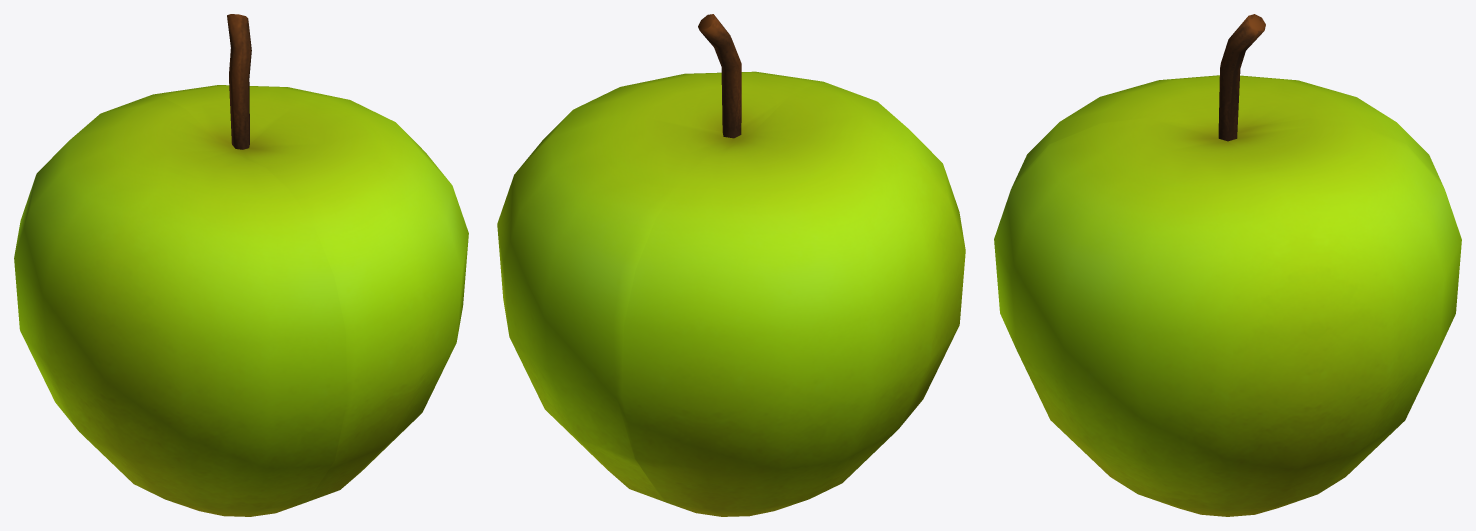
Rendered from Apple_01_Sliced.fbx.
The picture shows the model from 3 angles, left to right: view 1: azimuth 30°, elevation 25°; view 2: azimuth 150°, elevation 25°; view 3: azimuth 270°, elevation 25°; orthographic projection. The views are drawn at different scales.
Parts seen in each view (by area): view 1: Apple_01_Half.1, Apple_01_Half.0; view 2: Apple_01_Half.1, Apple_01_Half.0; view 3: Apple_01_Half.0, Apple_01_Half.1.
Part boxes in pixels (bbox=[...]): Apple_01_Half.1: bbox=[14, 98, 347, 516]; Apple_01_Half.0: bbox=[141, 14, 468, 501]; Apple_01_Half.1: bbox=[622, 85, 965, 516]; Apple_01_Half.0: bbox=[497, 14, 835, 501]; Apple_01_Half.0: bbox=[994, 14, 1461, 516]; Apple_01_Half.1: bbox=[1014, 75, 1441, 182].
Bounding box in the file's own units: 37.23 × 42.93 × 37.23.
